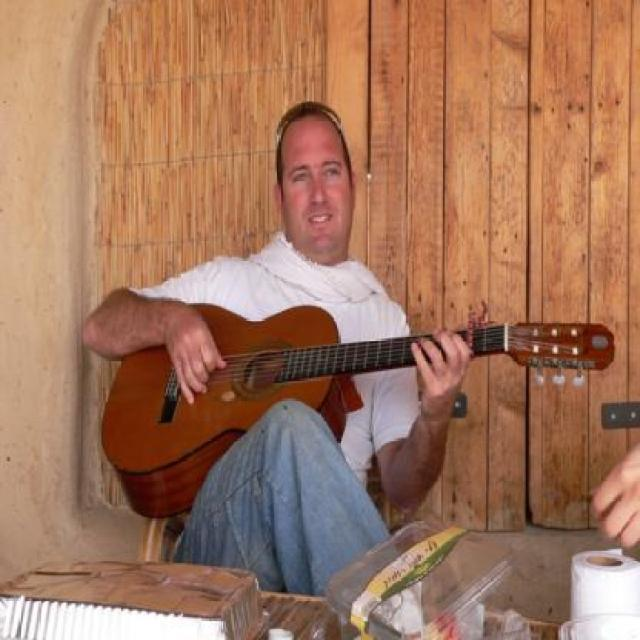Person: (81, 100, 472, 638), (586, 435, 639, 548)
